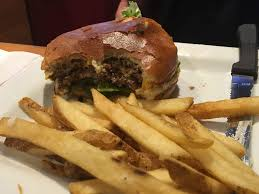hamburger: (41, 17, 185, 125)
